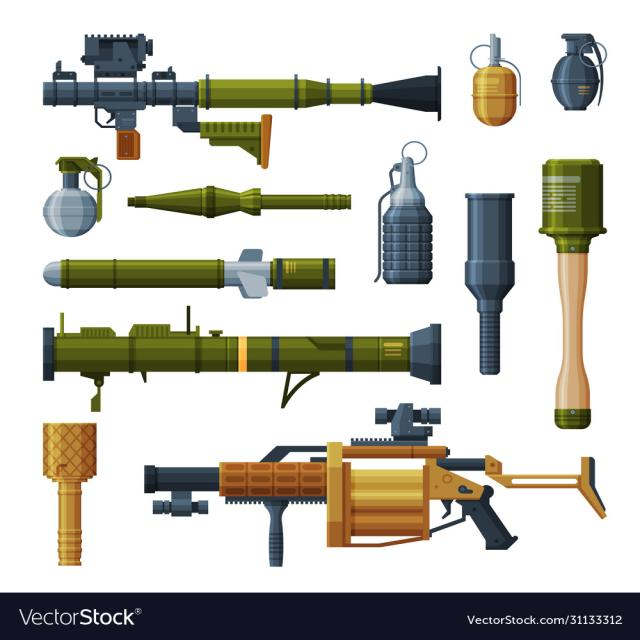Weapon: (32, 291, 454, 416)
